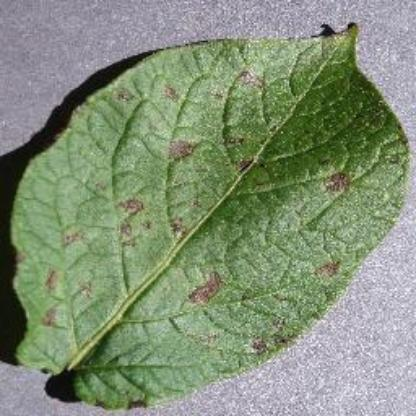Early-Blight: (4, 21, 412, 409)
